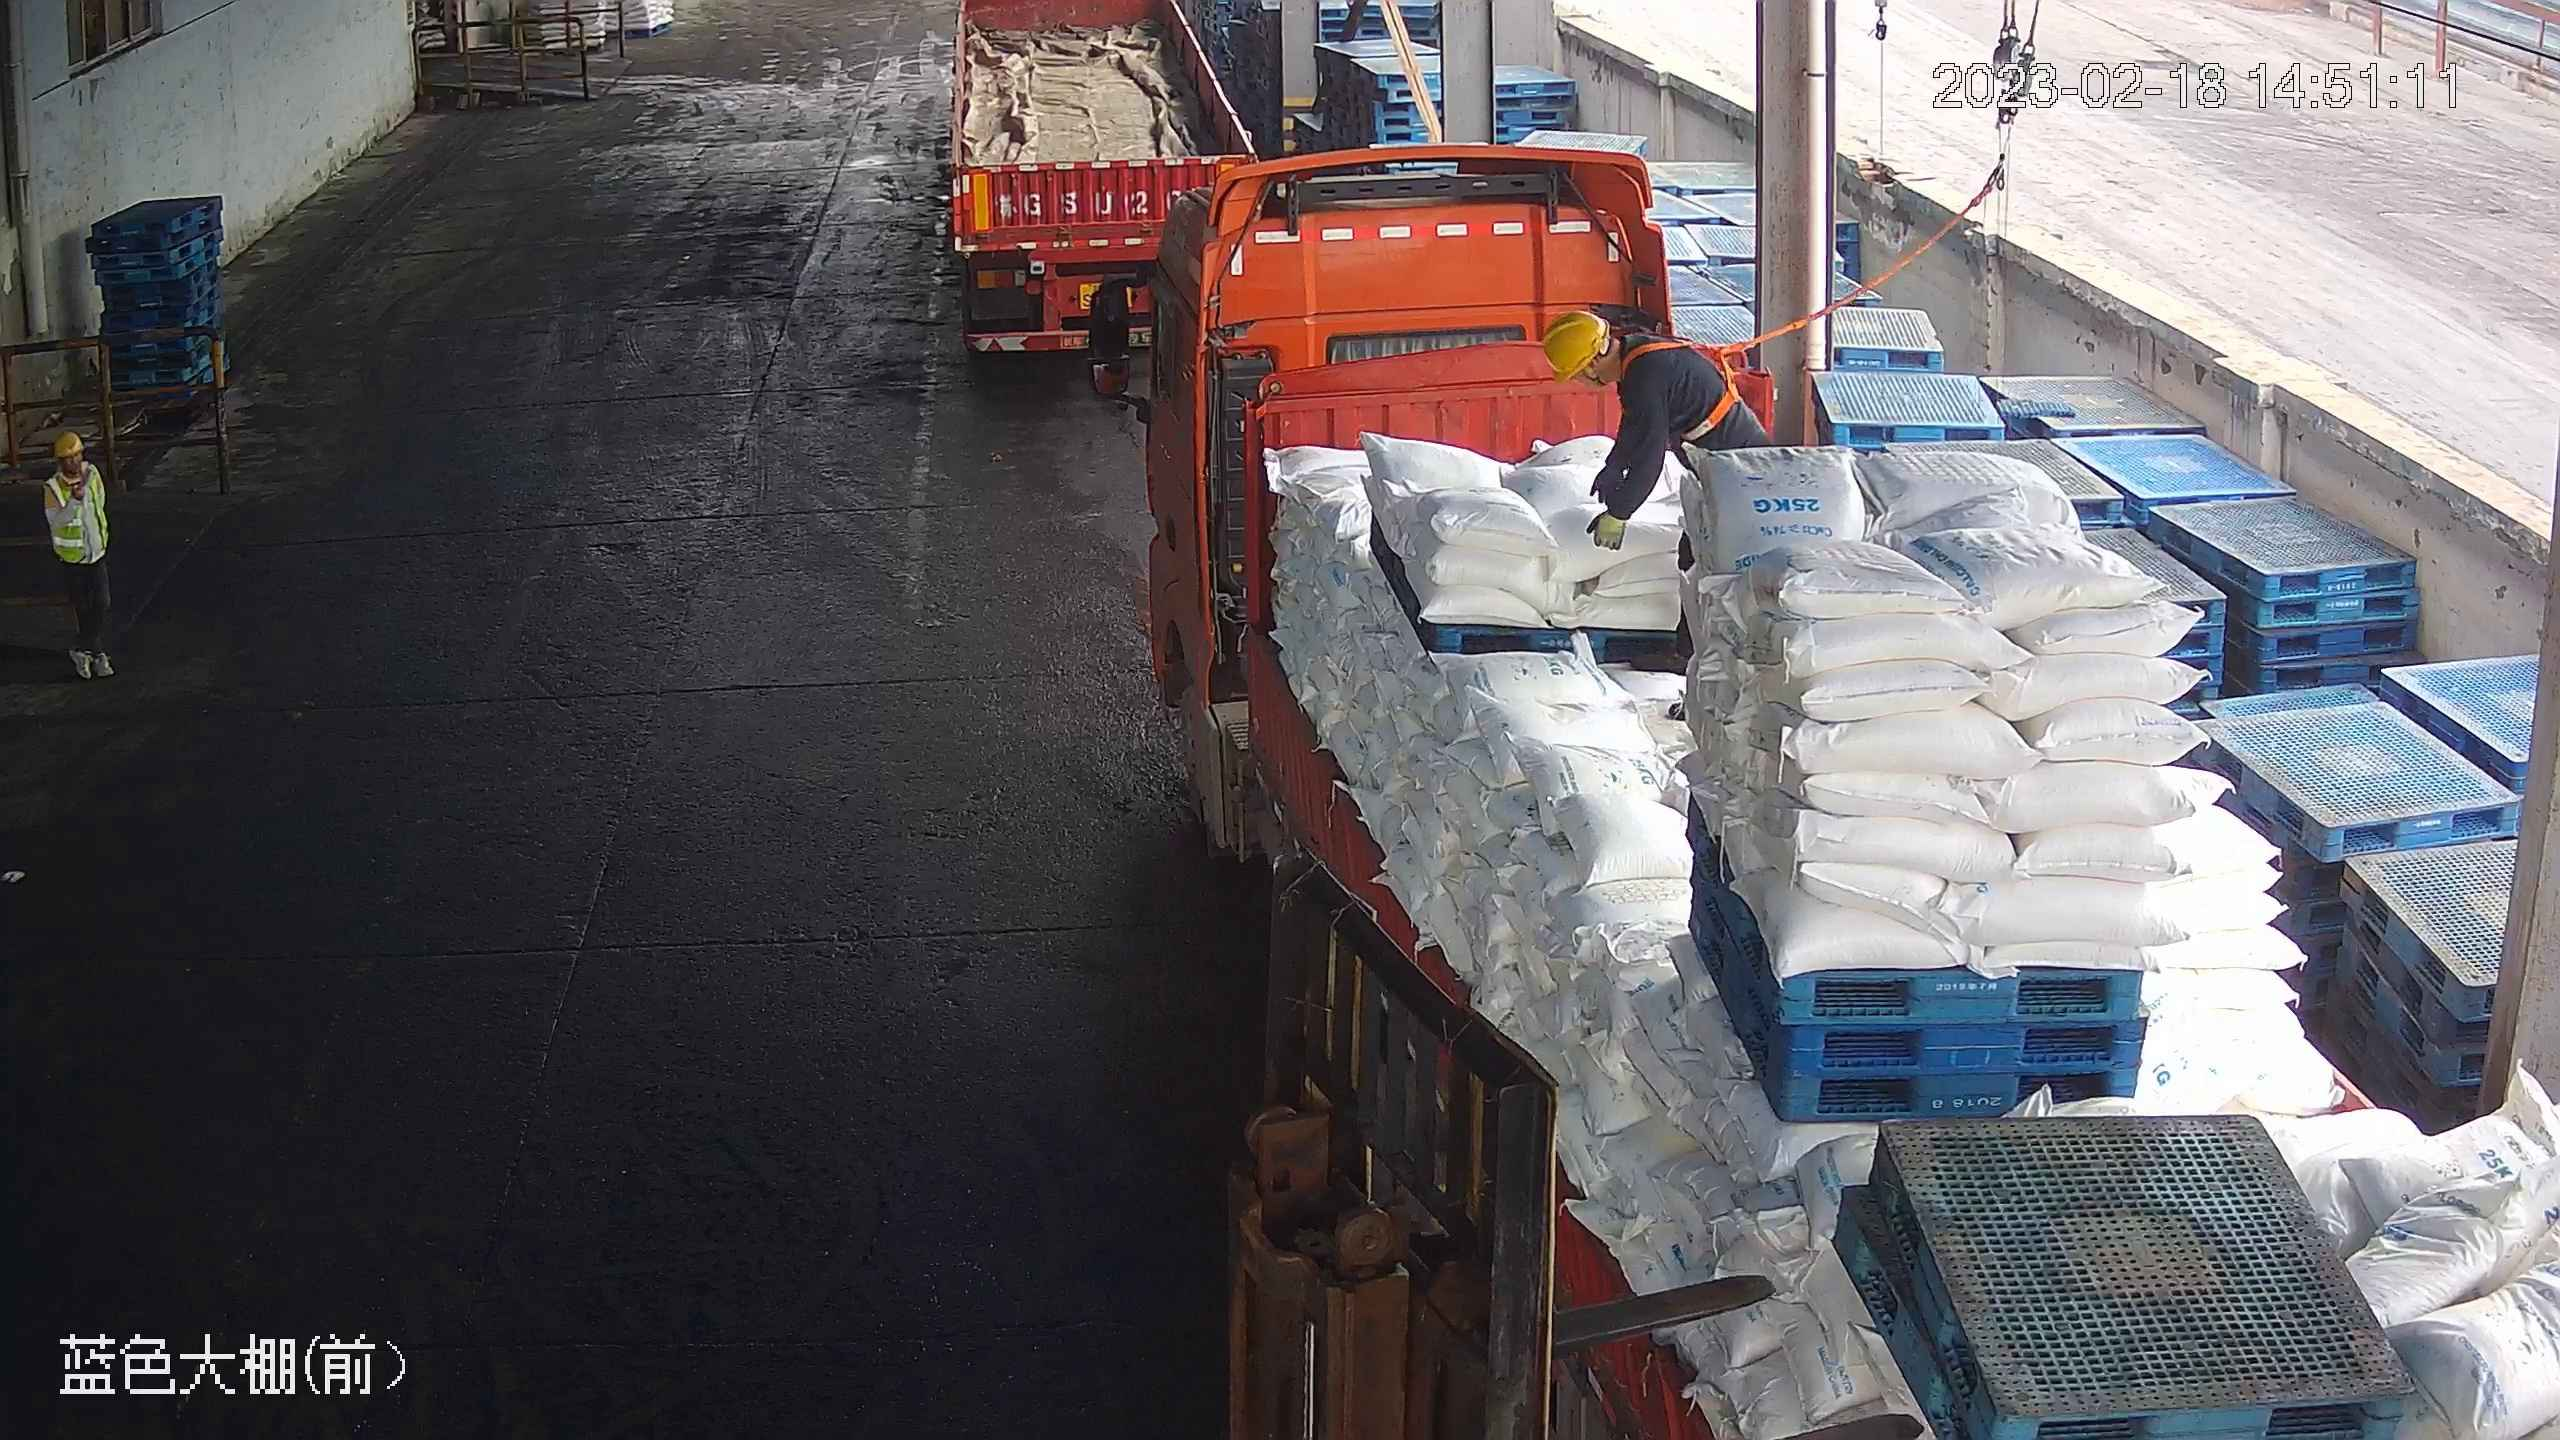belt: (1618, 328, 1746, 442)
head: (1541, 305, 1690, 411), (40, 428, 110, 503)
helmet: (1539, 305, 1610, 384), (52, 427, 86, 458)
people: (1539, 301, 1779, 642), (36, 426, 123, 690)
truck: (1153, 154, 2558, 1429), (935, 1, 1211, 368)
